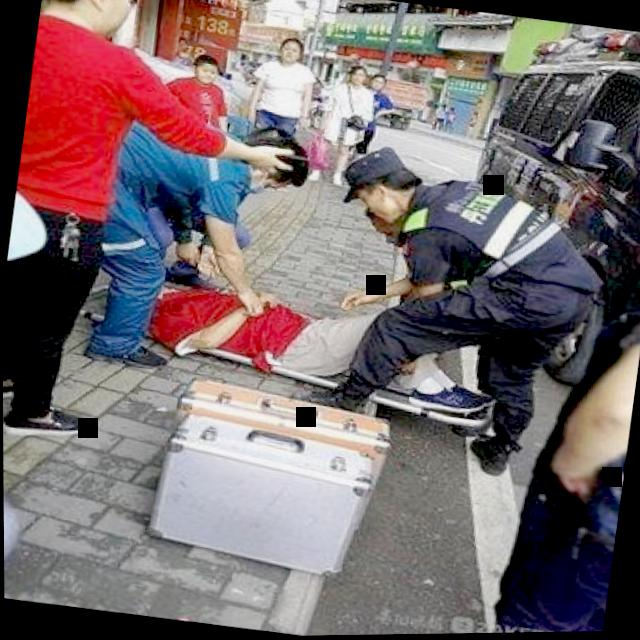Fall-Detected: (120, 255, 462, 424)
